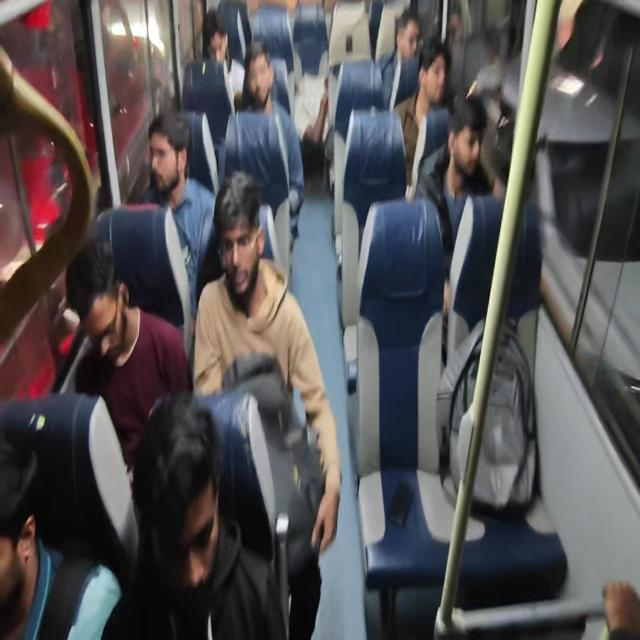person: (127, 369, 220, 581), (0, 420, 45, 626), (90, 219, 146, 384), (206, 160, 272, 294), (288, 51, 330, 183), (455, 90, 501, 202), (408, 30, 457, 126), (146, 95, 195, 190), (239, 39, 288, 133), (196, 0, 232, 78), (397, 1, 431, 75)
